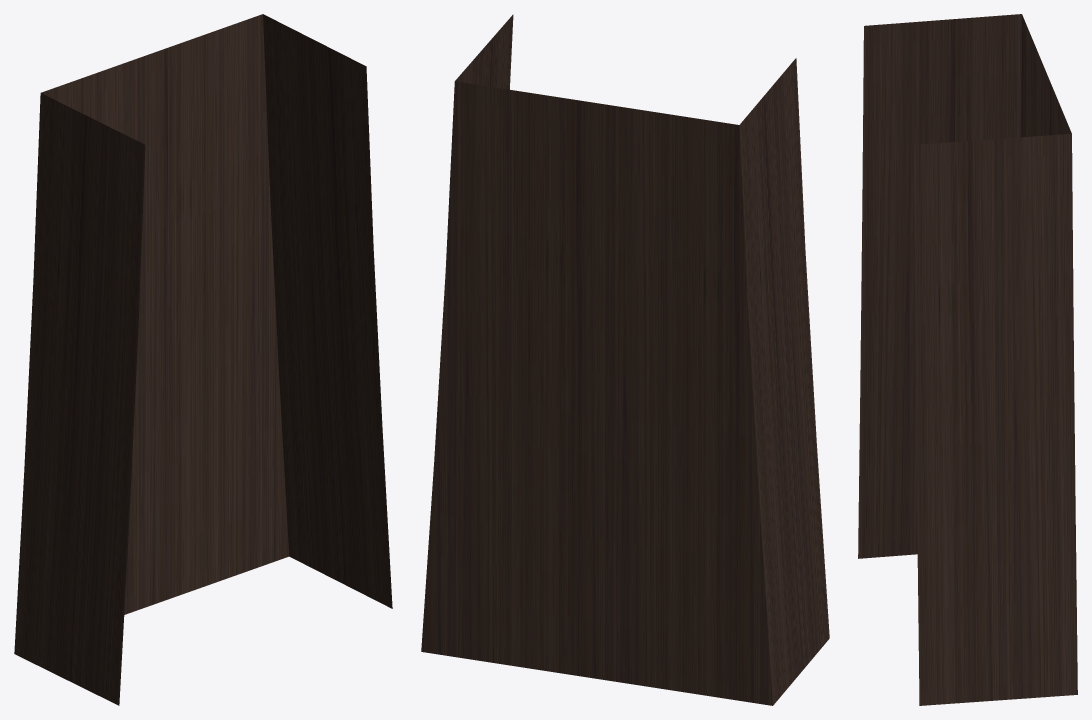
3 renders of one model, left to right at view 1: azimuth 30°, elevation 25°; view 2: azimuth 150°, elevation 25°; view 3: azimuth 270°, elevation 25°, orthographic. The views are drawn at different scales.
Visible parts, largest first — view 1: 琴颈001; view 2: 琴颈001; view 3: 琴颈001.
Boxes of the visible parts, x1,y1,x2,y2 form: 琴颈001: (14, 14, 392, 705); 琴颈001: (421, 14, 829, 705); 琴颈001: (858, 14, 1077, 705).
Bounding box in the file's own units: 59.62 × 95.47 × 34.75.
1 material, 1 textured.
